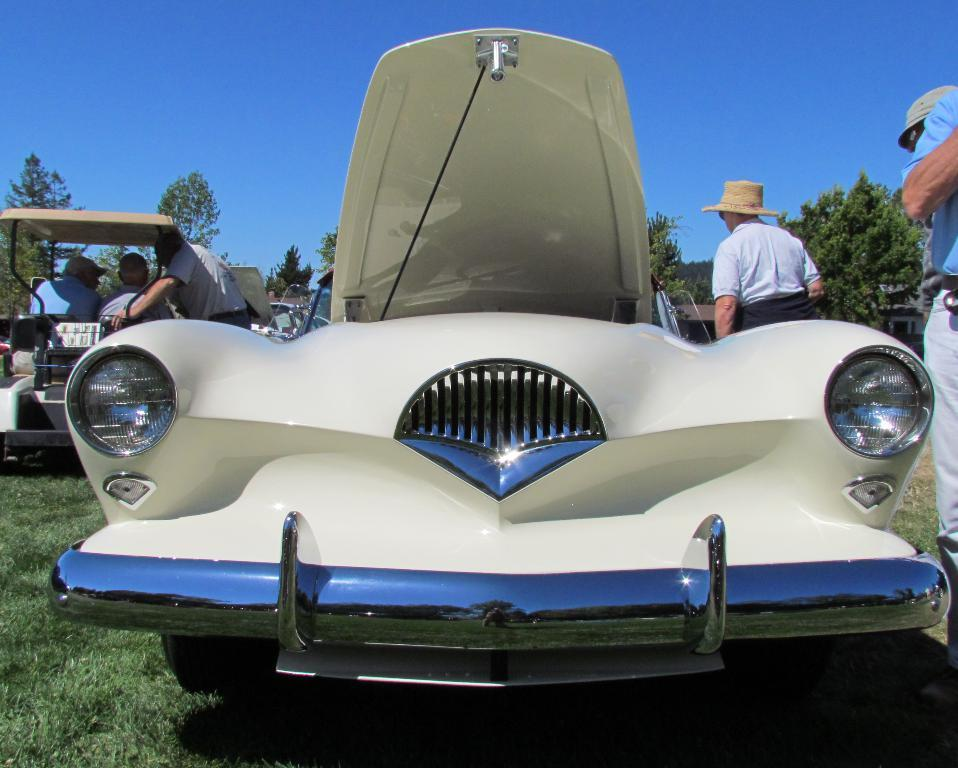Hat: (897, 86, 956, 148), (700, 179, 782, 216), (60, 252, 110, 277)
